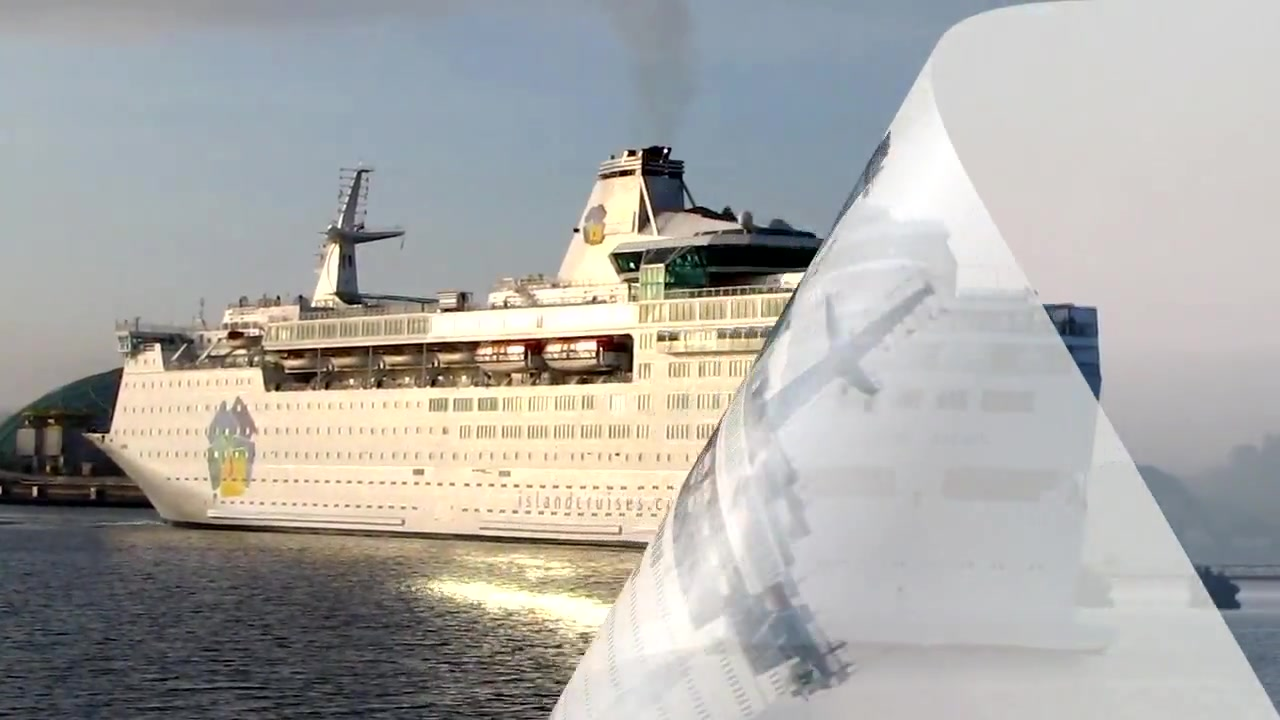boat: (81, 139, 1103, 549)
